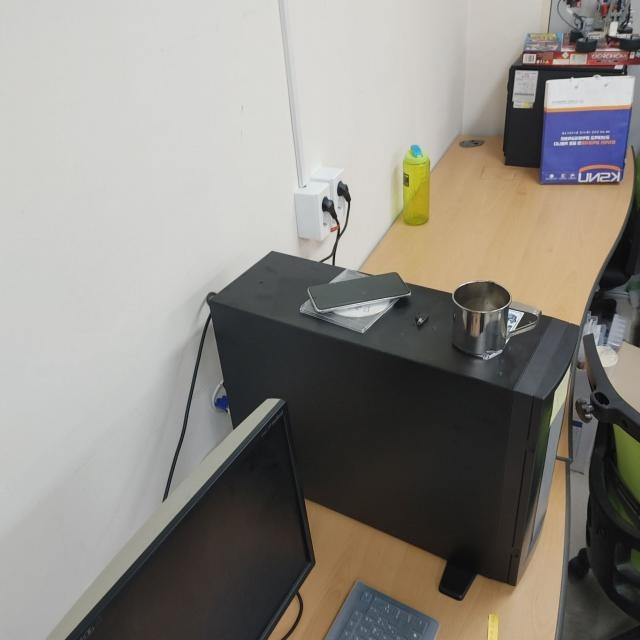cup: (449, 278, 543, 357)
phone: (305, 269, 411, 313)
